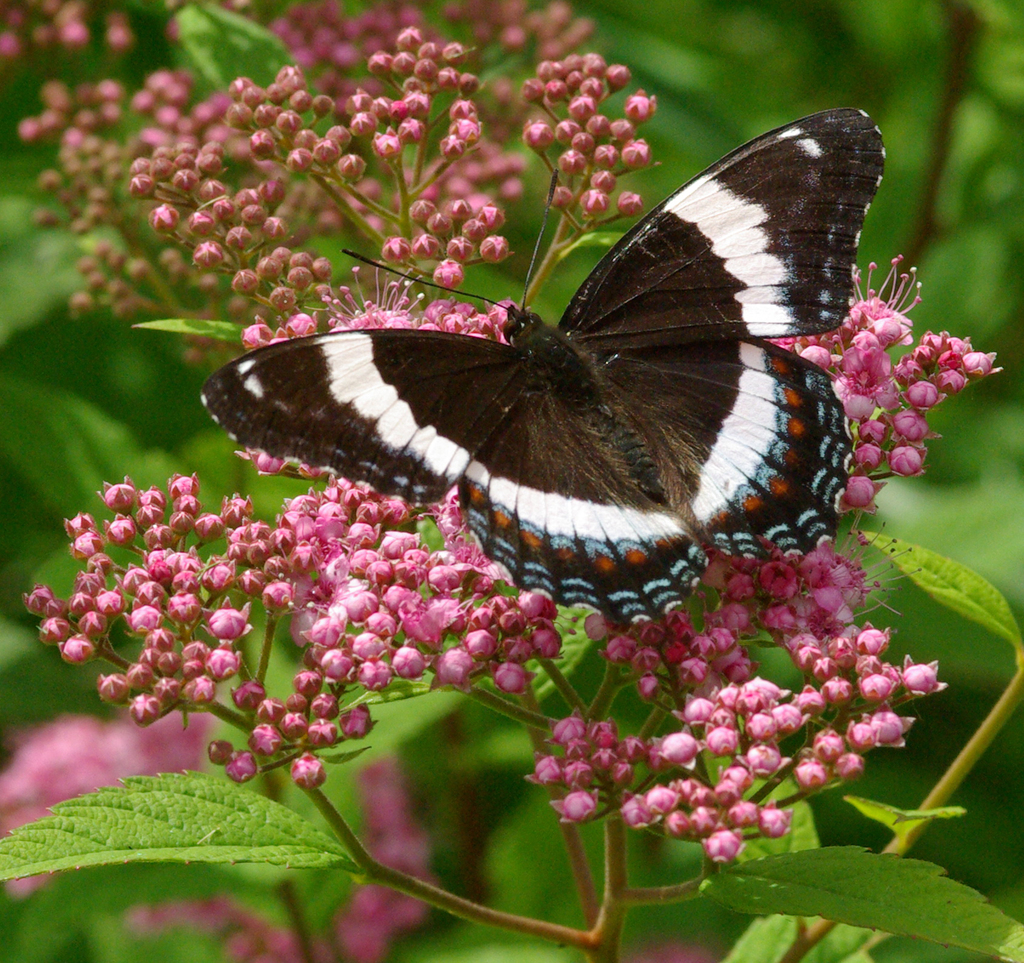Butterfly: (200, 93, 909, 642)
